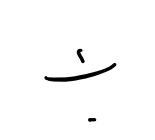div: (45, 48, 117, 121)
